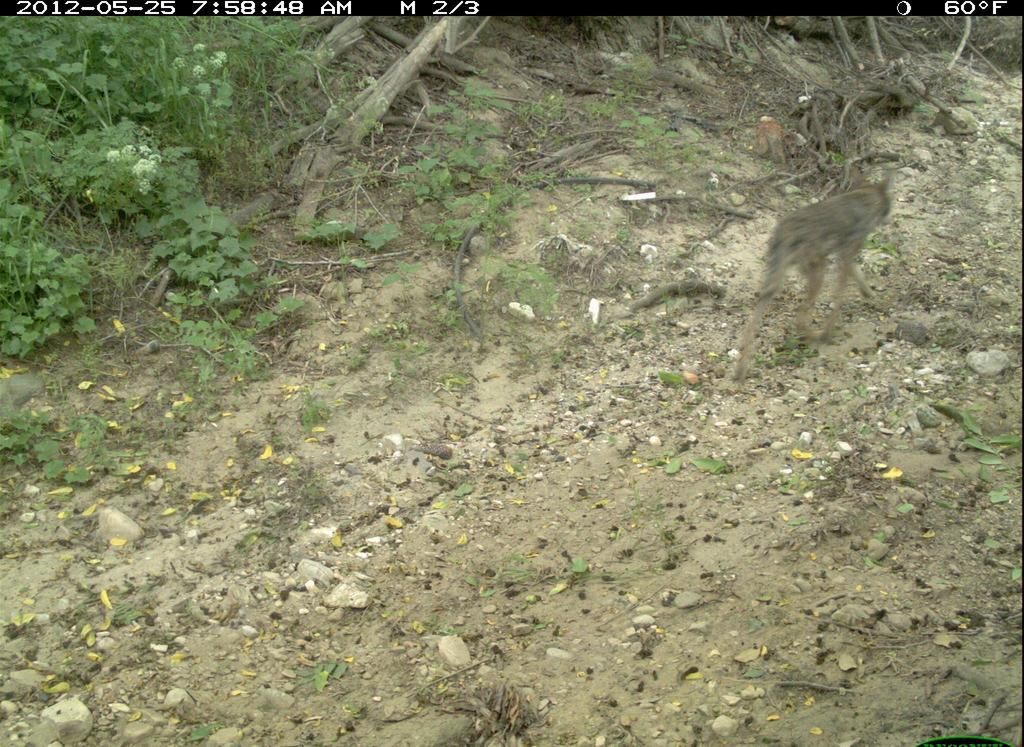coyote: (726, 168, 904, 369)
